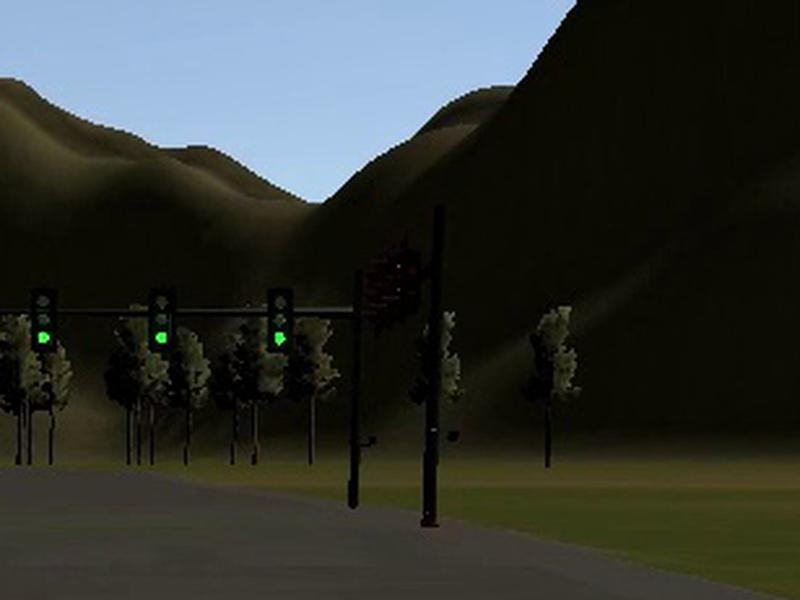Green: (31, 290, 59, 353), (267, 286, 293, 353), (148, 291, 176, 352)
